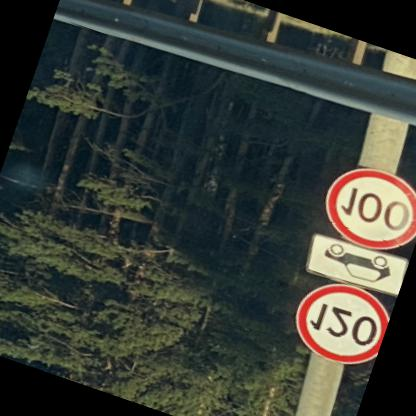speedlimit: (284, 275, 392, 375), (313, 157, 415, 262)
